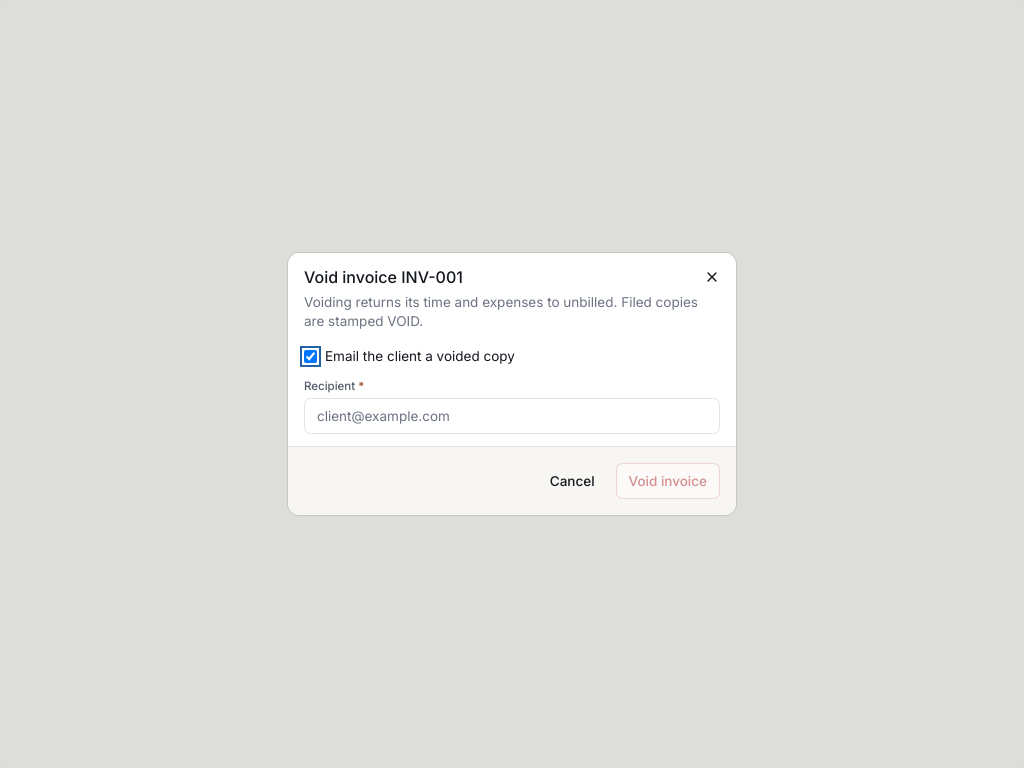
Scenario: VoidInvoiceDialog › button is disabled while ticked with an empty recipient
Expected: the button "Void invoice" is disabled, top-left (616, 463), bottom-right (720, 499)
Click the checkbox: x=310, y=356 top-left (304, 350), bottom-right (317, 363)
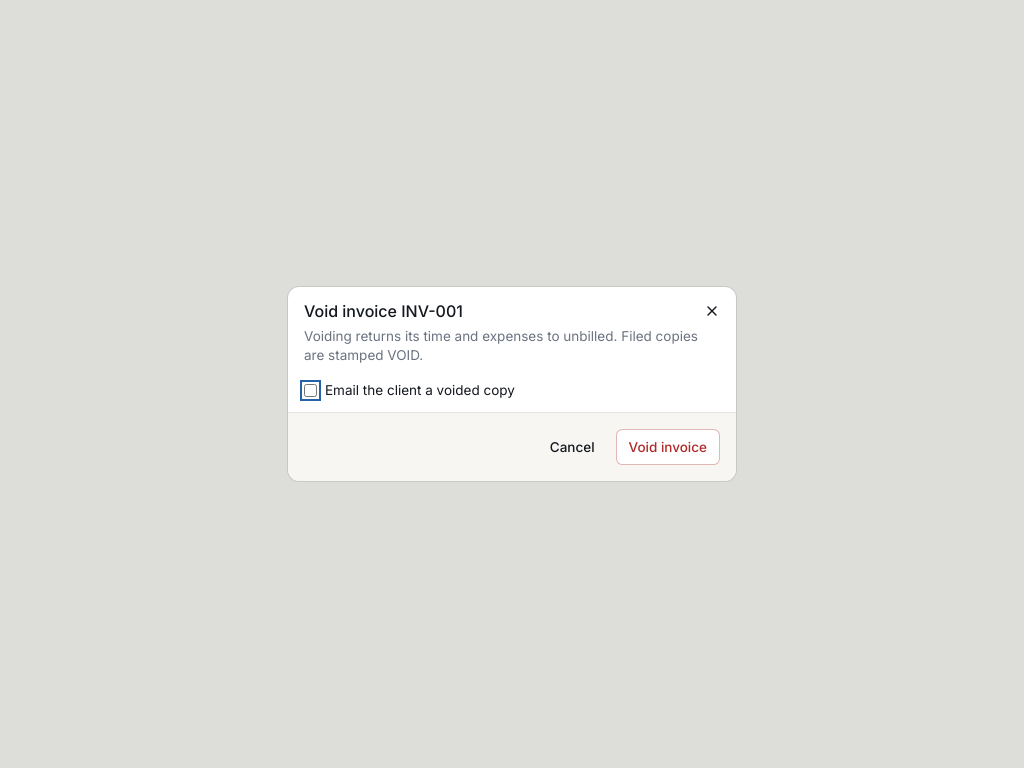
Result: the button "Void invoice" is enabled at top-left (616, 429), bottom-right (720, 465)
